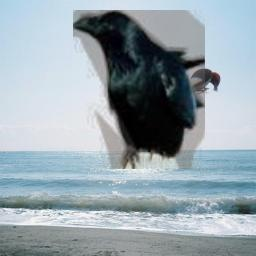Crow: (73, 10, 205, 169)
Woodpecker: (180, 67, 222, 103)
